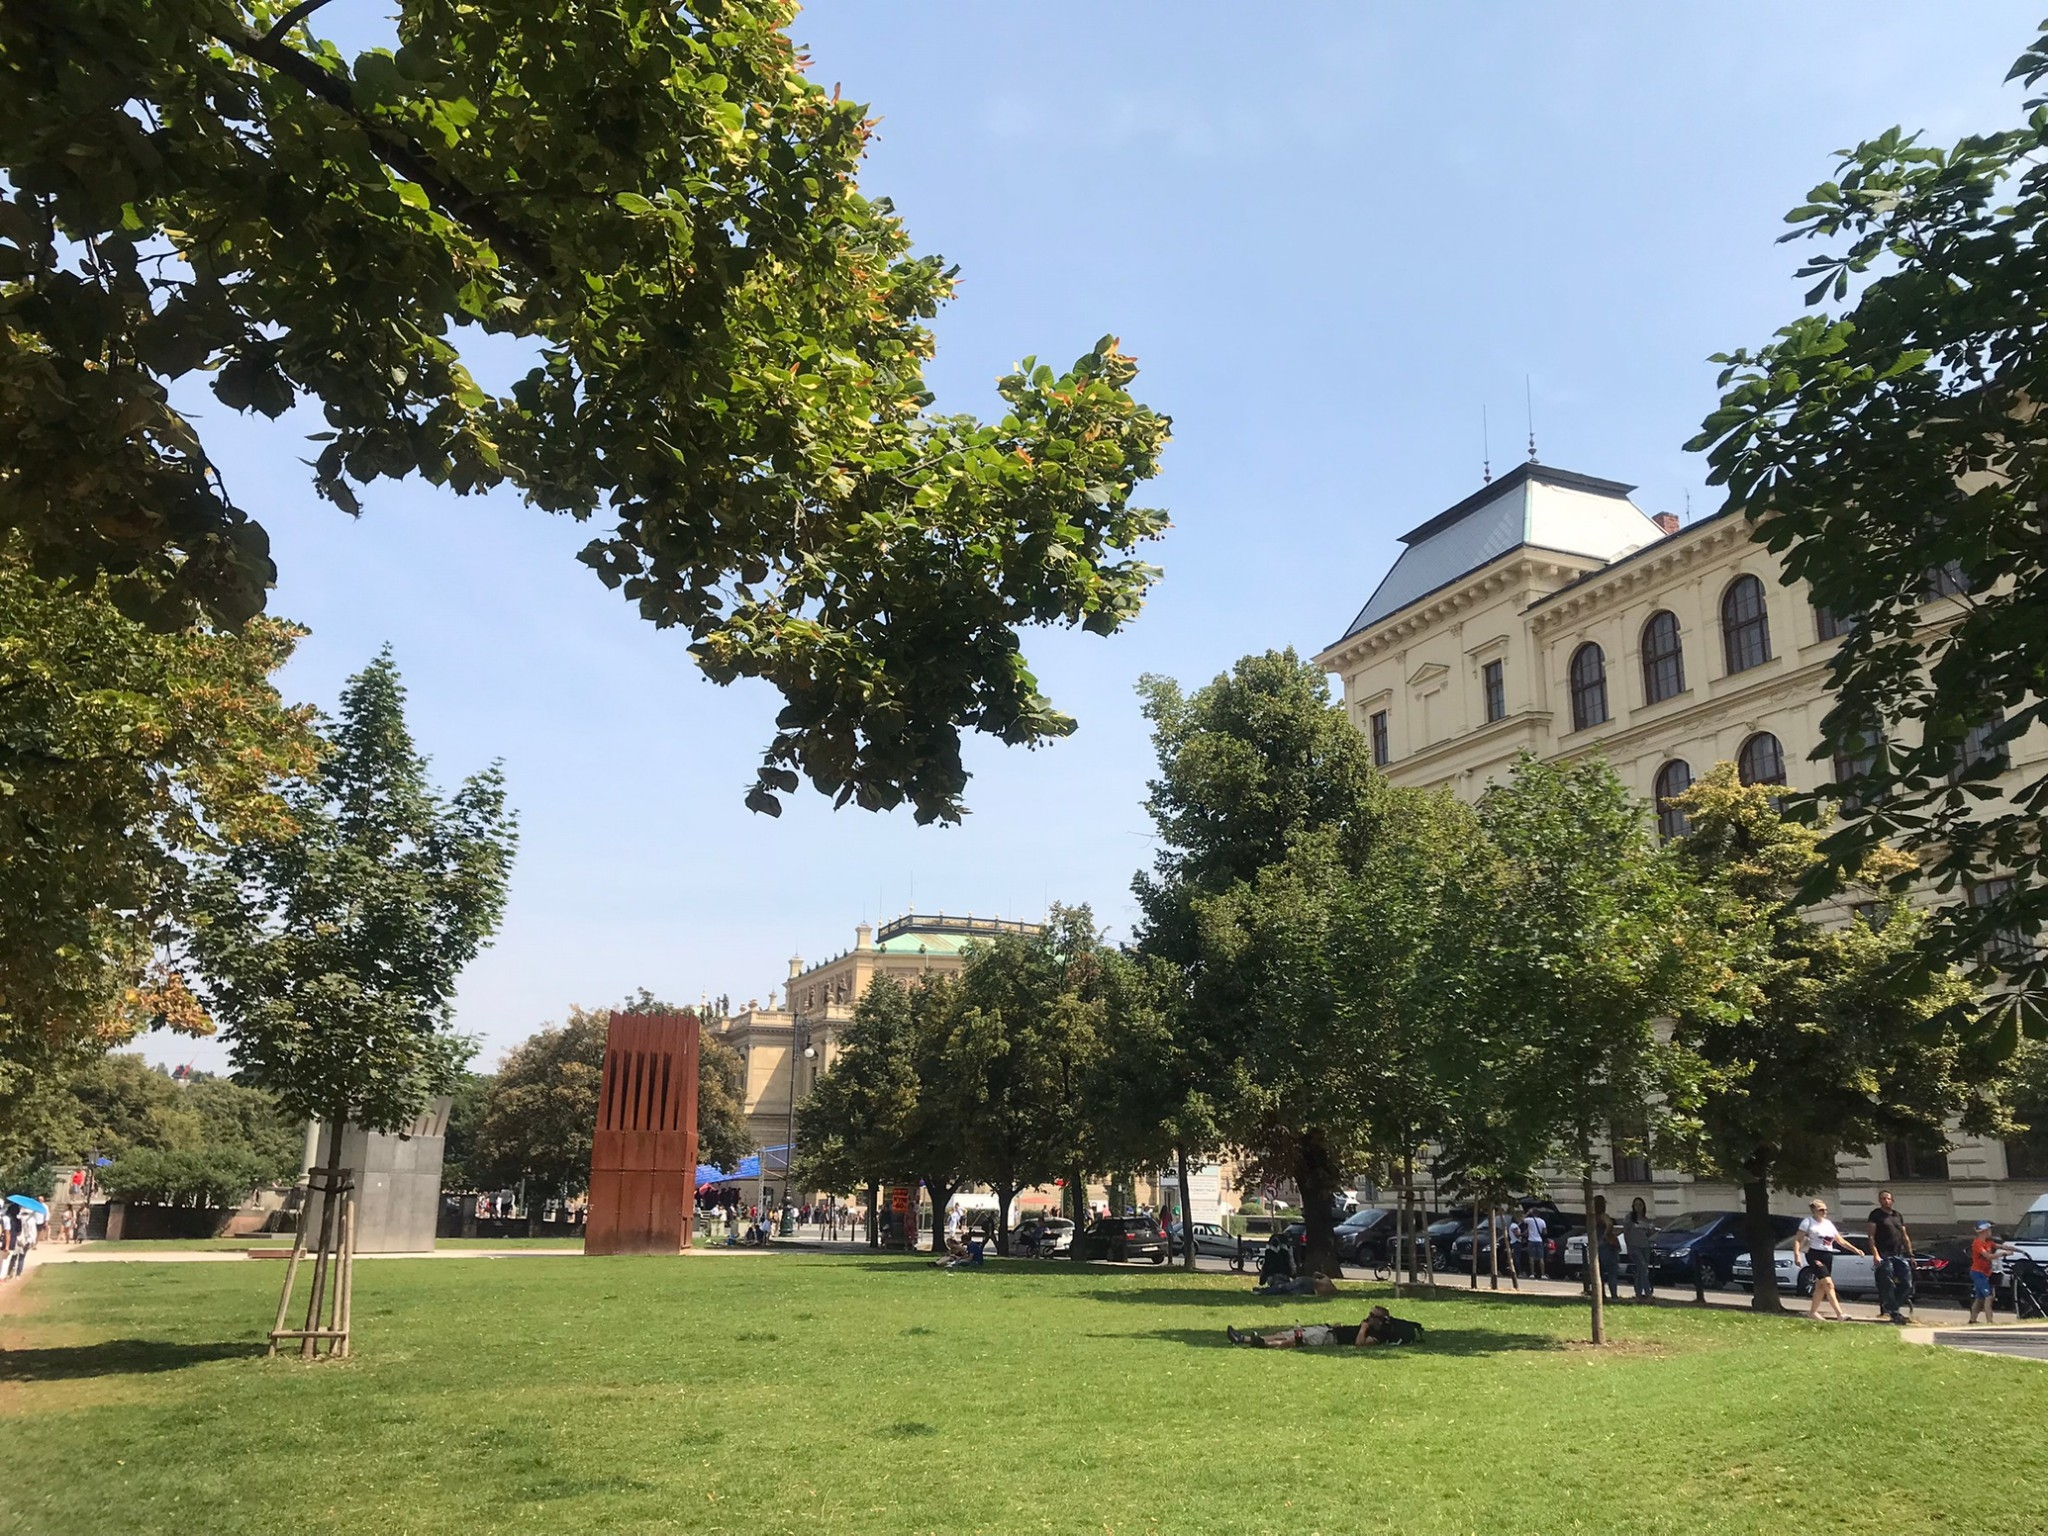people: (1860, 1184, 1934, 1340), (1793, 1202, 1872, 1328), (1957, 1210, 2007, 1328)
